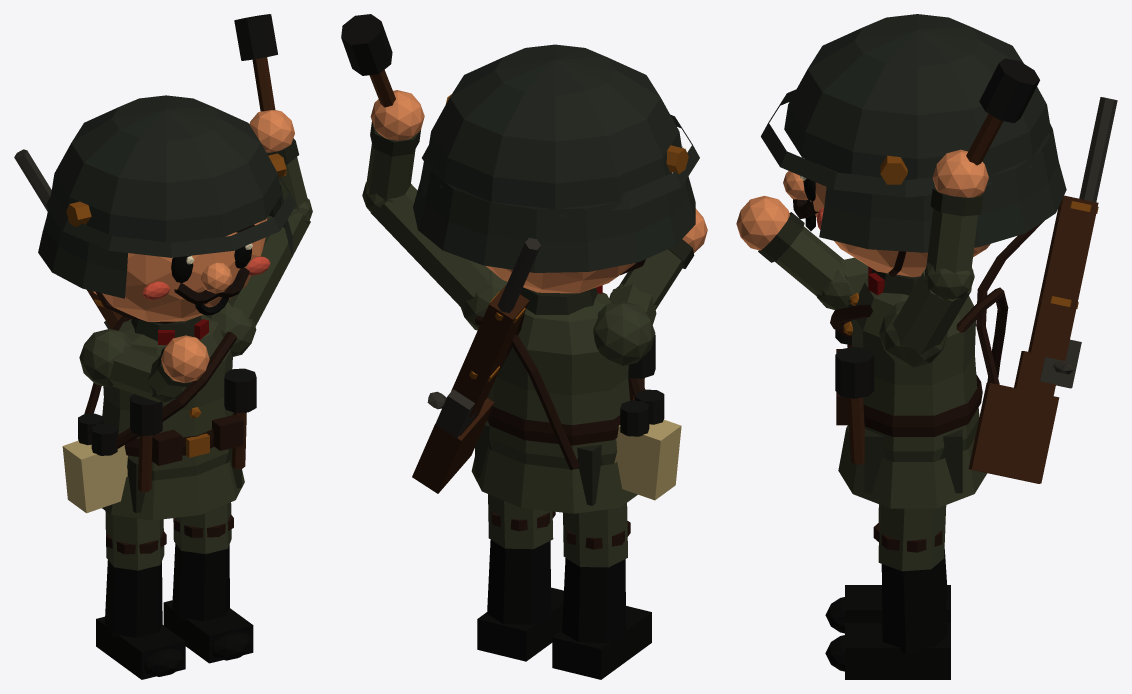
The model's file is Granadero_CascoAcero.obj.
3 renders of one model, left to right at view 1: azimuth 30°, elevation 25°; view 2: azimuth 150°, elevation 25°; view 3: azimuth 270°, elevation 25°, orthographic. The views are drawn at different scales.
Parts seen in each view (by area): view 1: Cuerpo, Pierna_I, Pierna_D; view 2: Cuerpo, Pierna_I, Pierna_D; view 3: Cuerpo, Pierna_D, Pierna_I.
Boxes of the visible parts, left/top/right/bottom form: Cuerpo: left=14, top=14, right=312, bottom=520; Pierna_I: left=96, top=511, right=185, bottom=679; Pierna_D: left=163, top=502, right=253, bottom=663; Cuerpo: left=341, top=14, right=707, bottom=513; Pierna_I: left=552, top=503, right=651, bottom=679; Pierna_D: left=477, top=494, right=563, bottom=661; Cuerpo: left=736, top=14, right=1117, bottom=508; Pierna_D: left=825, top=505, right=950, bottom=679; Pierna_I: left=825, top=504, right=950, bottom=633.
Bounding box in the file's own units: 0.9156 × 1.86 × 0.972.
